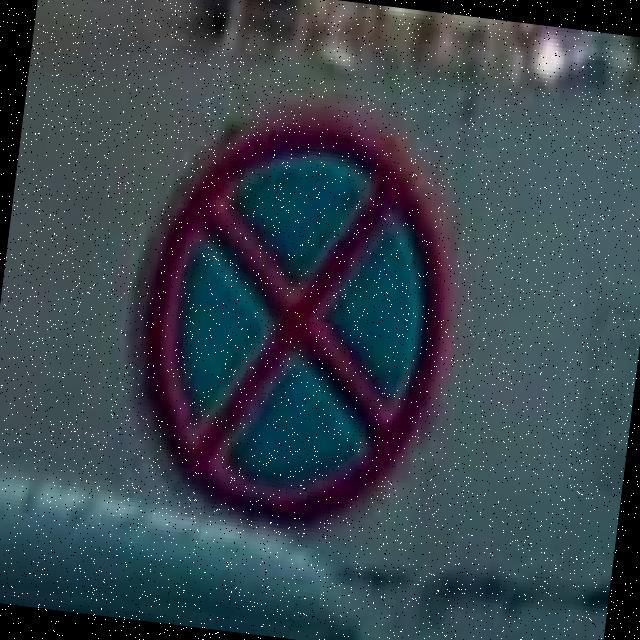Zakaz zatrzymywania sie: (120, 105, 468, 545)
